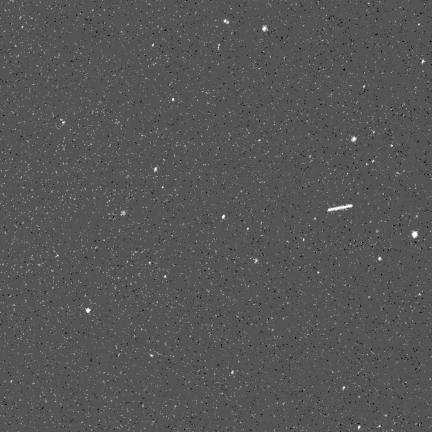blob: (351, 137, 358, 143), (412, 231, 418, 238), (262, 25, 268, 32), (224, 19, 229, 24), (86, 308, 90, 313), (121, 211, 126, 215), (154, 167, 157, 172), (422, 60, 425, 64), (172, 98, 175, 102), (222, 215, 225, 219), (149, 262, 152, 265), (379, 257, 382, 260)
streak: (328, 205, 352, 211)
